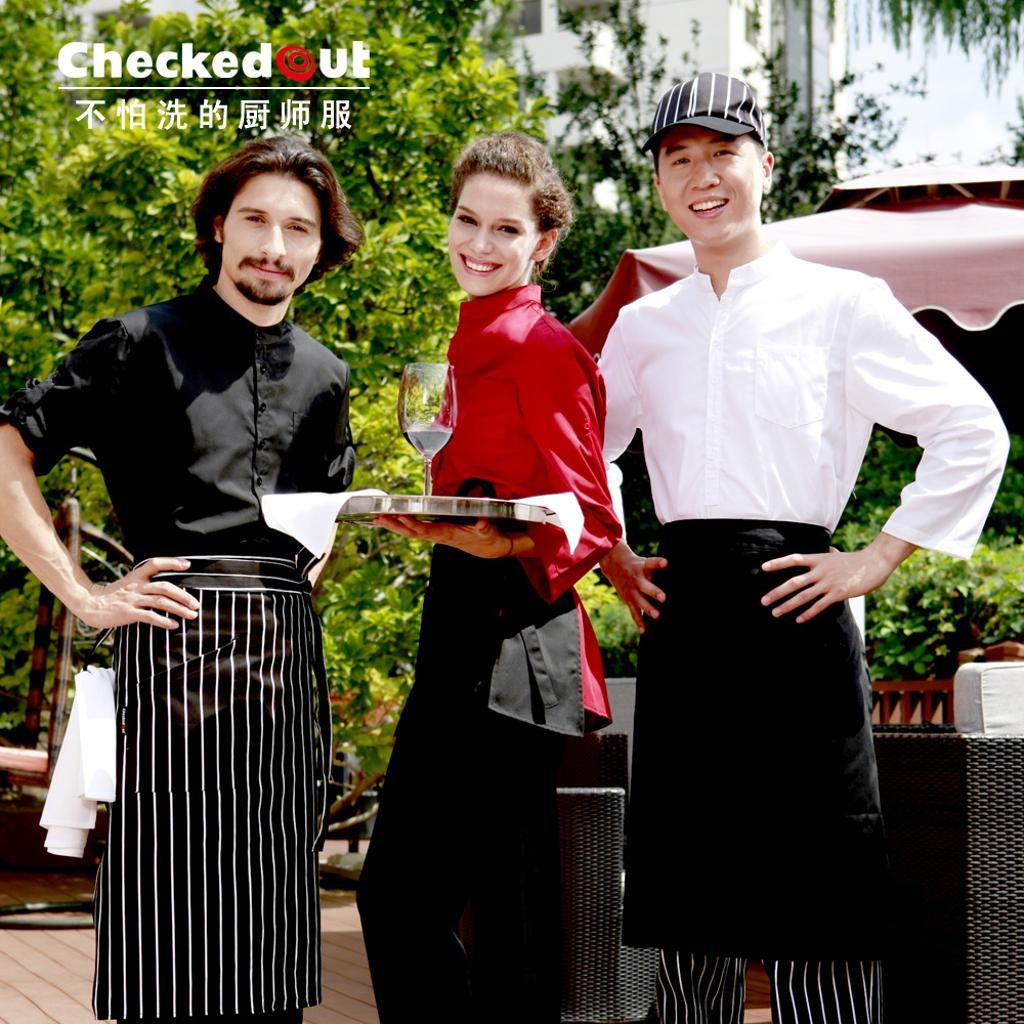face: (656, 108, 764, 244), (222, 170, 322, 306), (444, 168, 536, 296)
